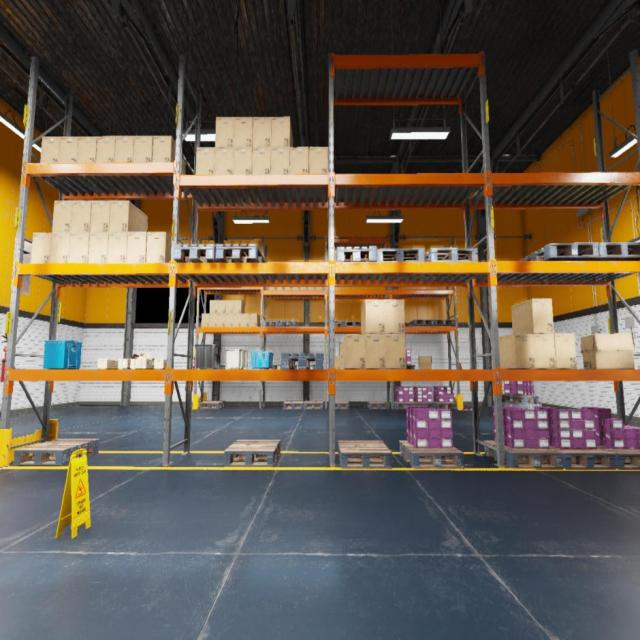box: (580, 334, 634, 369), (512, 299, 554, 333), (152, 135, 186, 175), (108, 200, 148, 232), (499, 334, 536, 368), (146, 232, 179, 262), (309, 146, 328, 196), (362, 300, 386, 334), (554, 334, 577, 368), (534, 334, 556, 368), (344, 334, 366, 368), (386, 334, 407, 368), (385, 300, 405, 334), (366, 334, 386, 368), (126, 231, 147, 263), (272, 116, 294, 146), (30, 232, 51, 263), (71, 201, 92, 232), (52, 201, 73, 232), (90, 200, 110, 232), (252, 116, 272, 147), (107, 232, 127, 263), (88, 232, 108, 263), (69, 233, 89, 263), (50, 233, 70, 263), (215, 116, 234, 147), (40, 136, 61, 163), (234, 116, 252, 147), (289, 147, 309, 174), (96, 136, 116, 163), (77, 136, 97, 163), (133, 136, 153, 162), (252, 147, 271, 174), (115, 136, 134, 163), (59, 136, 78, 163), (233, 148, 252, 174), (214, 148, 233, 174), (196, 148, 215, 174), (271, 147, 289, 174), (130, 353, 150, 368), (136, 358, 155, 368), (97, 360, 118, 369), (418, 356, 432, 368), (233, 300, 244, 313), (250, 314, 260, 327), (118, 359, 131, 368), (154, 360, 166, 369), (241, 314, 249, 327), (233, 314, 241, 327), (209, 314, 217, 327), (201, 314, 209, 327), (210, 300, 218, 313), (226, 314, 233, 327), (218, 314, 225, 327), (226, 300, 233, 313), (218, 300, 225, 313), (334, 356, 340, 368), (339, 342, 343, 355), (340, 356, 344, 368), (308, 287, 316, 290), (300, 287, 308, 290), (277, 287, 285, 290), (317, 287, 324, 290), (293, 287, 300, 290), (285, 287, 292, 290), (269, 287, 276, 290)
pallets: (14, 438, 100, 465), (483, 441, 562, 469), (399, 441, 464, 469), (548, 446, 616, 470), (224, 439, 281, 466), (519, 242, 598, 261), (338, 441, 392, 468), (583, 242, 640, 261), (597, 445, 639, 469), (216, 244, 265, 262), (174, 244, 218, 262), (424, 248, 478, 261), (377, 248, 424, 261), (336, 246, 376, 261), (282, 354, 324, 368), (502, 394, 539, 404), (409, 319, 434, 327), (432, 401, 457, 409), (391, 401, 415, 409), (431, 319, 454, 327), (367, 401, 390, 409), (414, 401, 436, 409), (200, 401, 224, 408), (284, 401, 304, 409), (304, 401, 323, 409), (335, 401, 349, 409), (344, 321, 361, 327), (280, 321, 297, 326), (328, 321, 344, 326), (263, 321, 279, 326), (263, 365, 281, 369), (217, 366, 225, 369), (309, 365, 315, 369), (406, 366, 414, 369), (295, 365, 298, 369)
